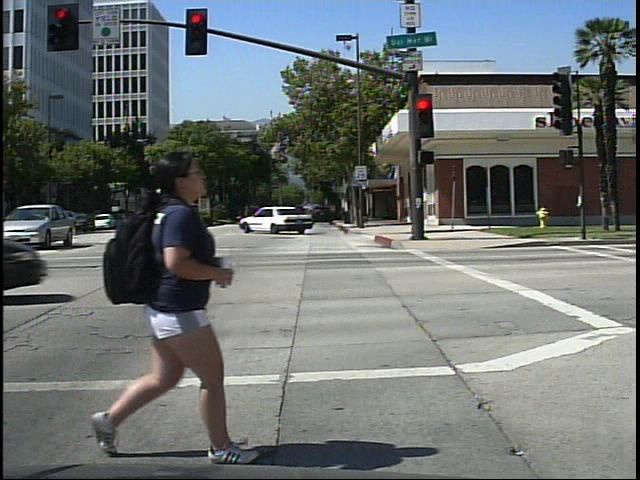person: (86, 126, 276, 468)
